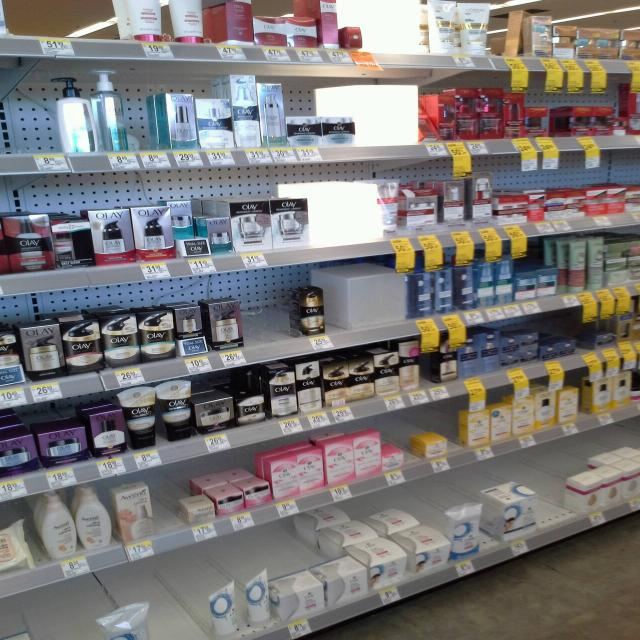void: (318, 188, 374, 260), (365, 96, 422, 166), (252, 272, 294, 366), (0, 68, 41, 152), (52, 1, 102, 65), (107, 572, 150, 640), (372, 8, 415, 72), (57, 589, 100, 640), (157, 580, 193, 640), (2, 2, 40, 58), (540, 474, 572, 534)
